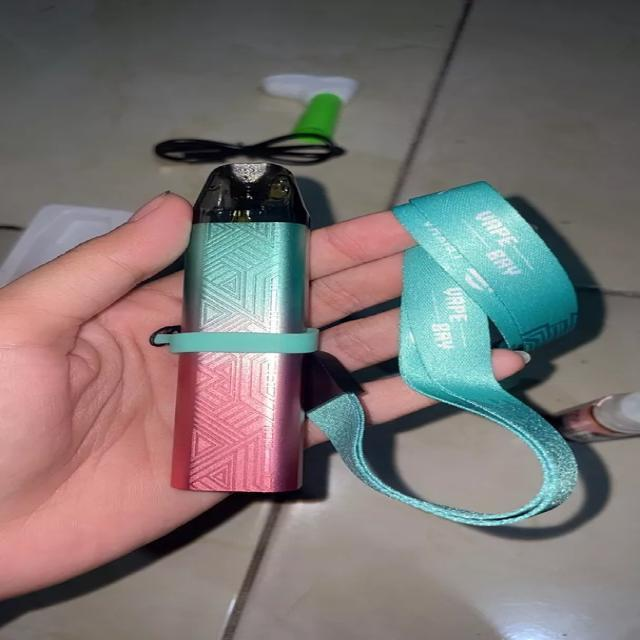Hazard: (171, 162, 306, 496)
